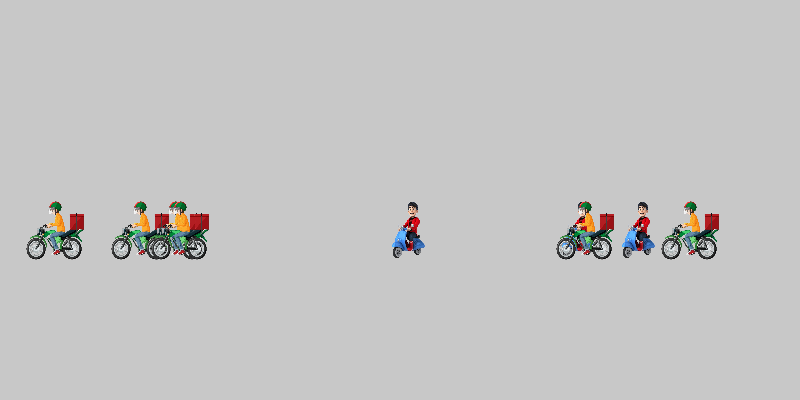helmet: (25, 200, 85, 260), (110, 200, 170, 260), (145, 200, 205, 260), (150, 200, 210, 260), (555, 200, 615, 260), (660, 200, 720, 260)
no_helmet: (380, 200, 440, 260), (550, 200, 610, 260), (610, 200, 670, 260)
